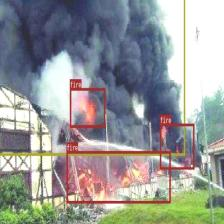fire: (66, 151, 171, 202), (160, 123, 194, 169), (70, 87, 105, 127)
smoke: (0, 0, 185, 155)
